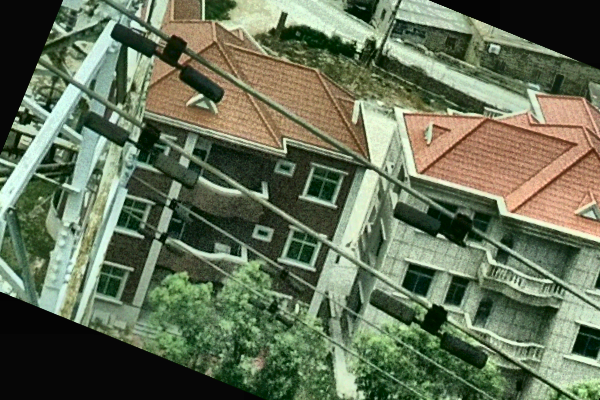damper: (367, 285, 490, 371), (108, 20, 227, 104), (81, 107, 204, 188), (136, 225, 185, 259), (244, 295, 294, 328), (257, 262, 306, 295), (146, 191, 194, 224)
damper_defect: (387, 195, 475, 251)
